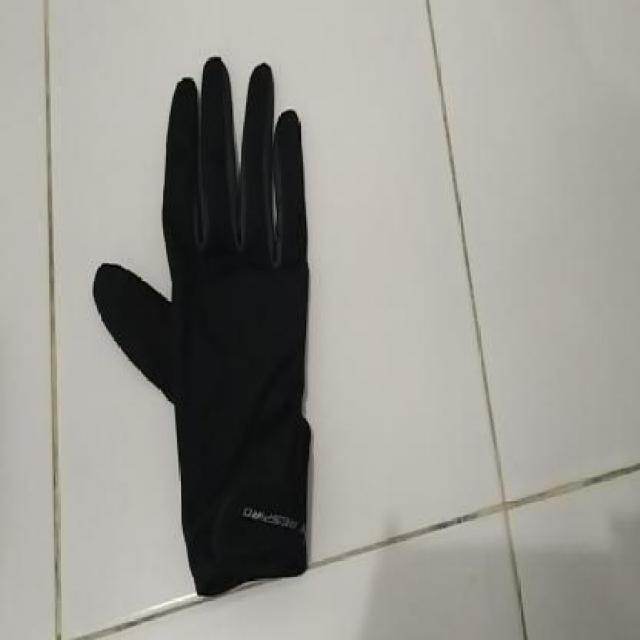Gloves: (88, 50, 316, 604)
